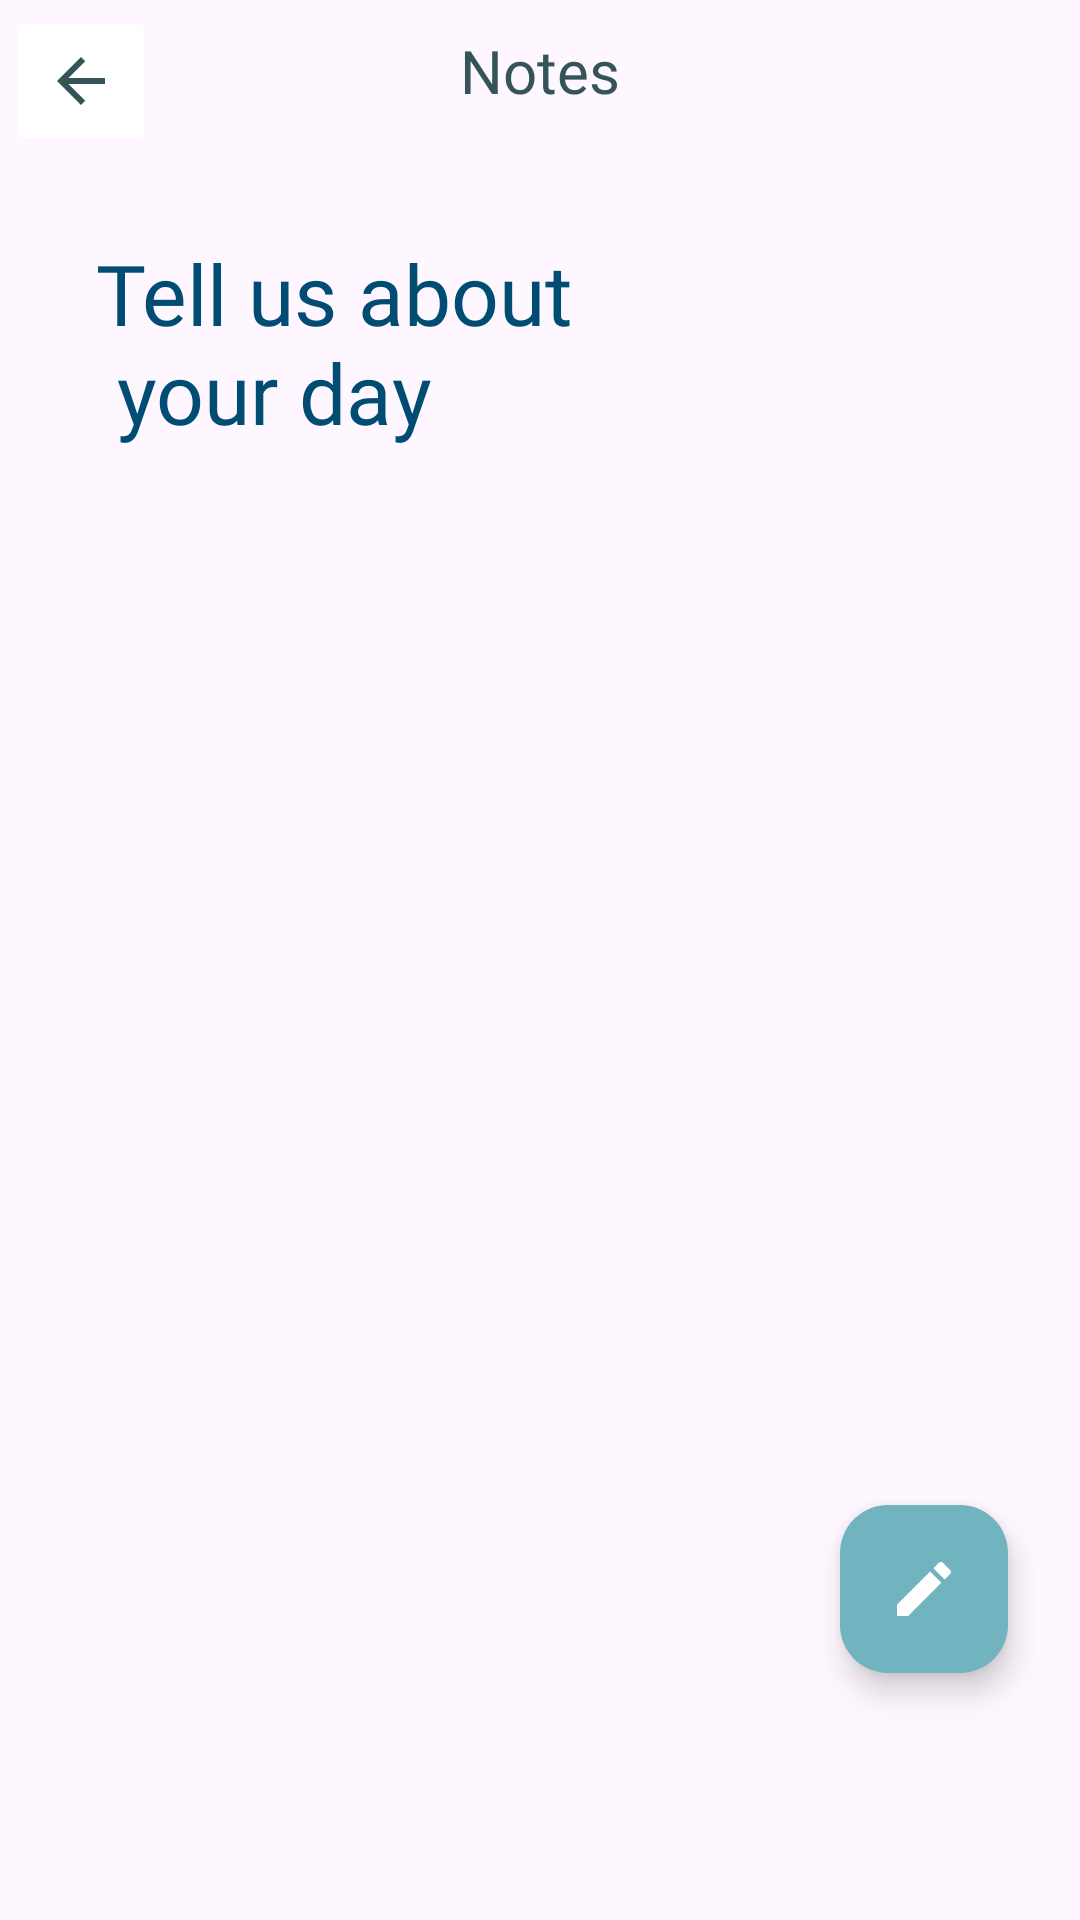

Named icons in this screenshot (1080*1920) and their bounding boxes, (x1, y1, x2, y2):
create: (840, 1505, 1008, 1673)
kembali: (57, 57, 105, 105)
